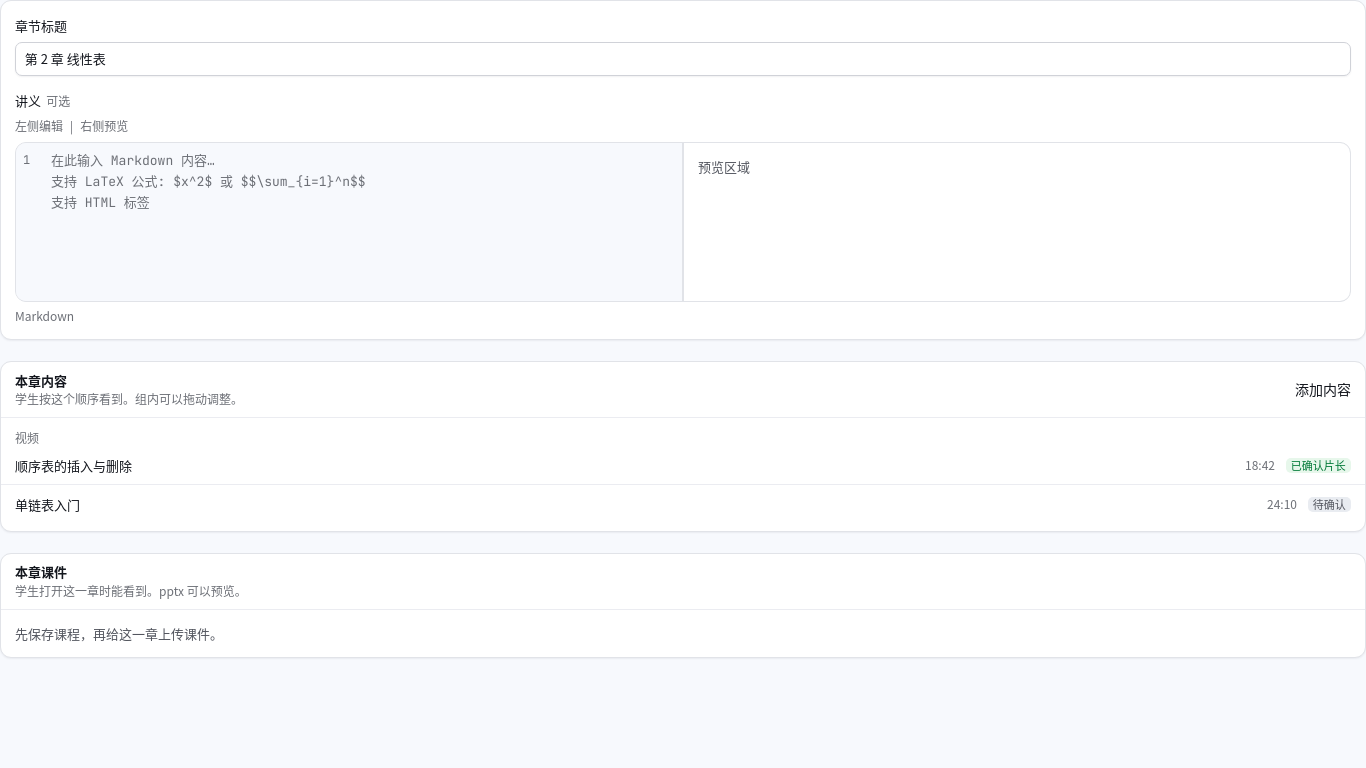
Test case: chapter panel › locks the video editor until the course is saved
Click the text "顺序表的插入与删除" at (74, 465), box [15, 456, 132, 475]
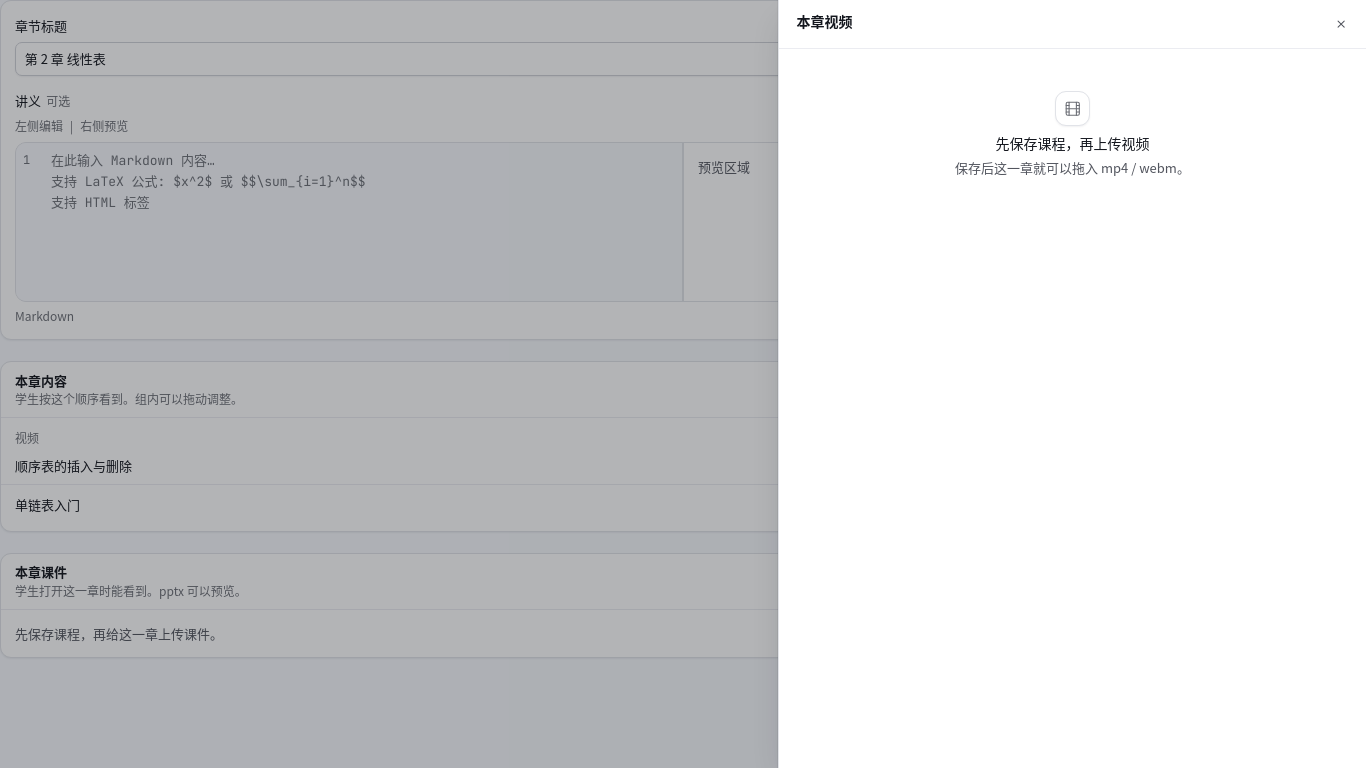
Check: the text "先保存课程，再上传视频" is shown, box [996, 133, 1150, 153]
